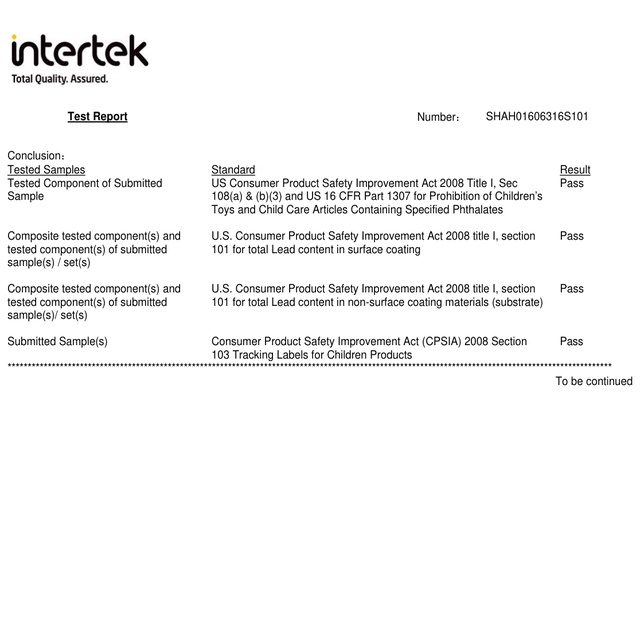intertek: (8, 27, 152, 73)
